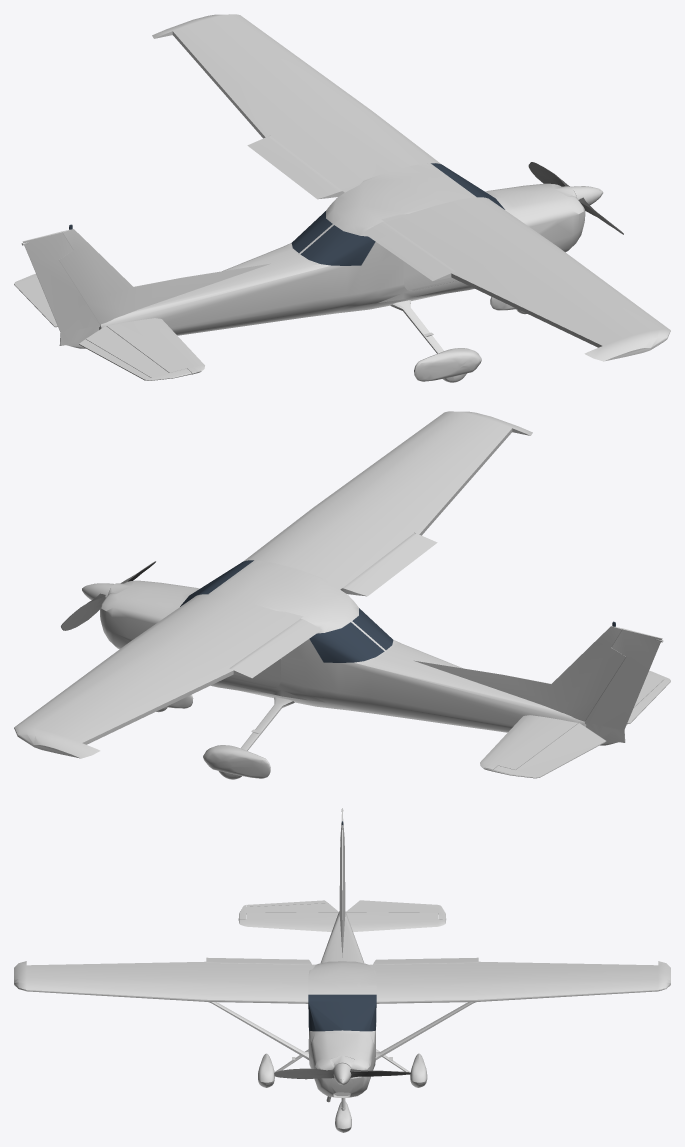
The picture shows the model from 3 angles, top to bottom: view 1: azimuth 30°, elevation 25°; view 2: azimuth 150°, elevation 25°; view 3: azimuth 270°, elevation 25°; orthographic projection. The views are drawn at different scales.
Visible parts, largest first — view 1: body, glass, spin; view 2: body, glass, spin; view 3: body, glass, spin.
Boxes of the visible parts, bbox=[...] form: body: bbox=[14, 14, 670, 382]; glass: bbox=[69, 163, 504, 265]; spin: bbox=[528, 162, 623, 234]; body: bbox=[14, 411, 670, 779]; glass: bbox=[180, 560, 615, 662]; spin: bbox=[61, 561, 155, 630]; body: bbox=[14, 808, 670, 1132]; glass: bbox=[308, 821, 376, 1031]; spin: bbox=[274, 1068, 410, 1079].
Bounding box in the file's own units: 1.65 × 0.5428 × 2.2.
